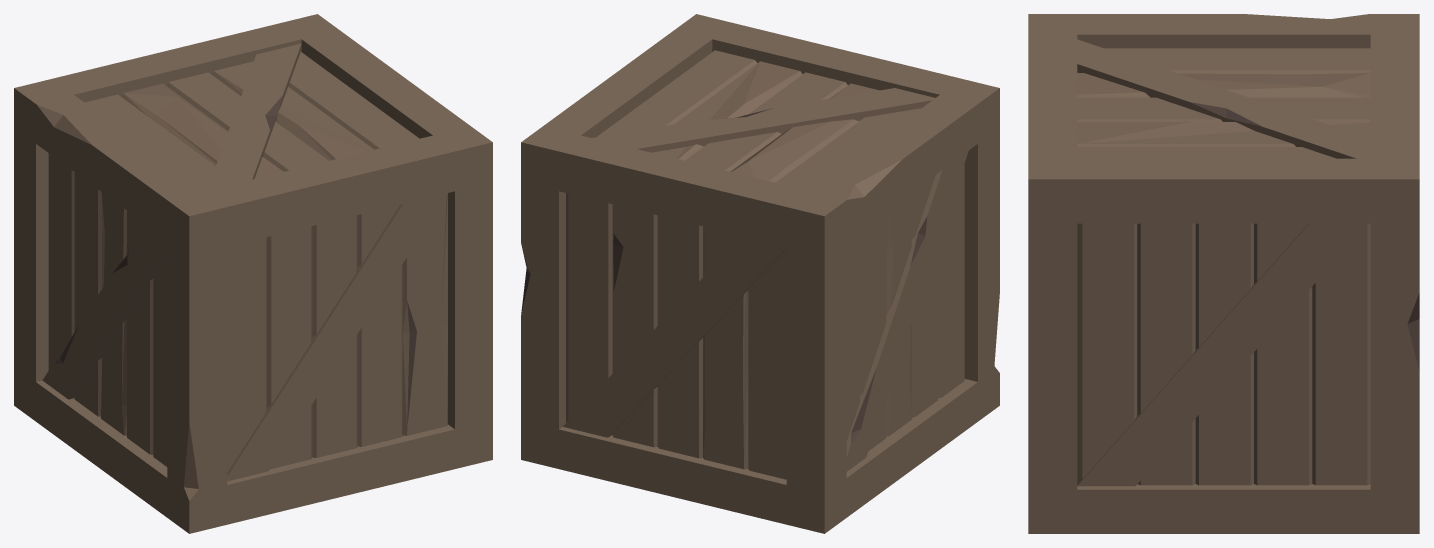
Rendered from model_wooden_box.fbx.
The picture shows the model from 3 angles, left to right: view 1: azimuth 30°, elevation 25°; view 2: azimuth 150°, elevation 25°; view 3: azimuth 270°, elevation 25°; orthographic projection. The views are drawn at different scales.
Parts seen in each view (by area): view 1: model_wooden_box; view 2: model_wooden_box; view 3: model_wooden_box.
Boxes of the visible parts, x1,y1,x2,y2 form: model_wooden_box: (14,14,492,533); model_wooden_box: (521,14,999,533); model_wooden_box: (1028,14,1419,533).
Size of the model in its own units: 100 by 100 by 100.
Materials: 1 (1 with a texture image).
